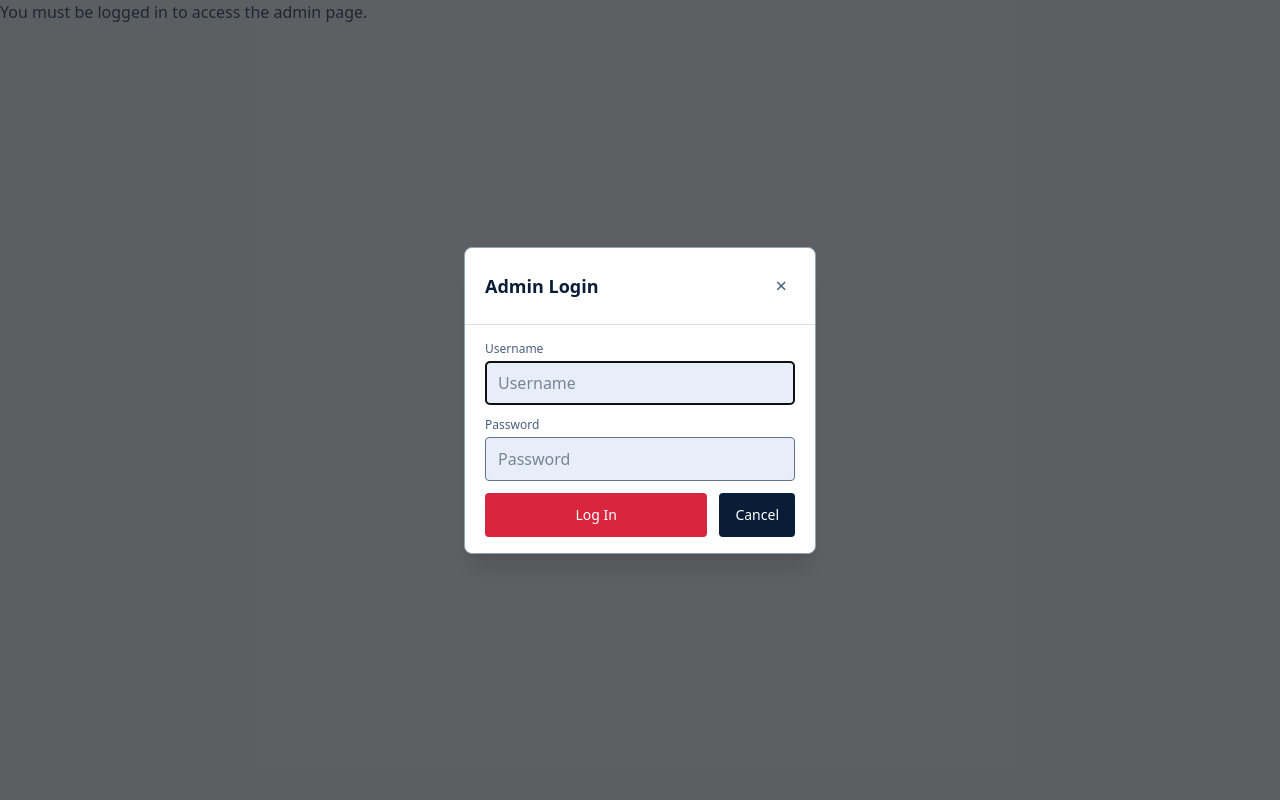
Scenario: AdminPage › surfaces an invalid-credentials error on 401
Step 1. Type "admin" into the field labelled "Username" → {"x": 640, "y": 382}, box x1=485 y1=360 x2=795 y2=404
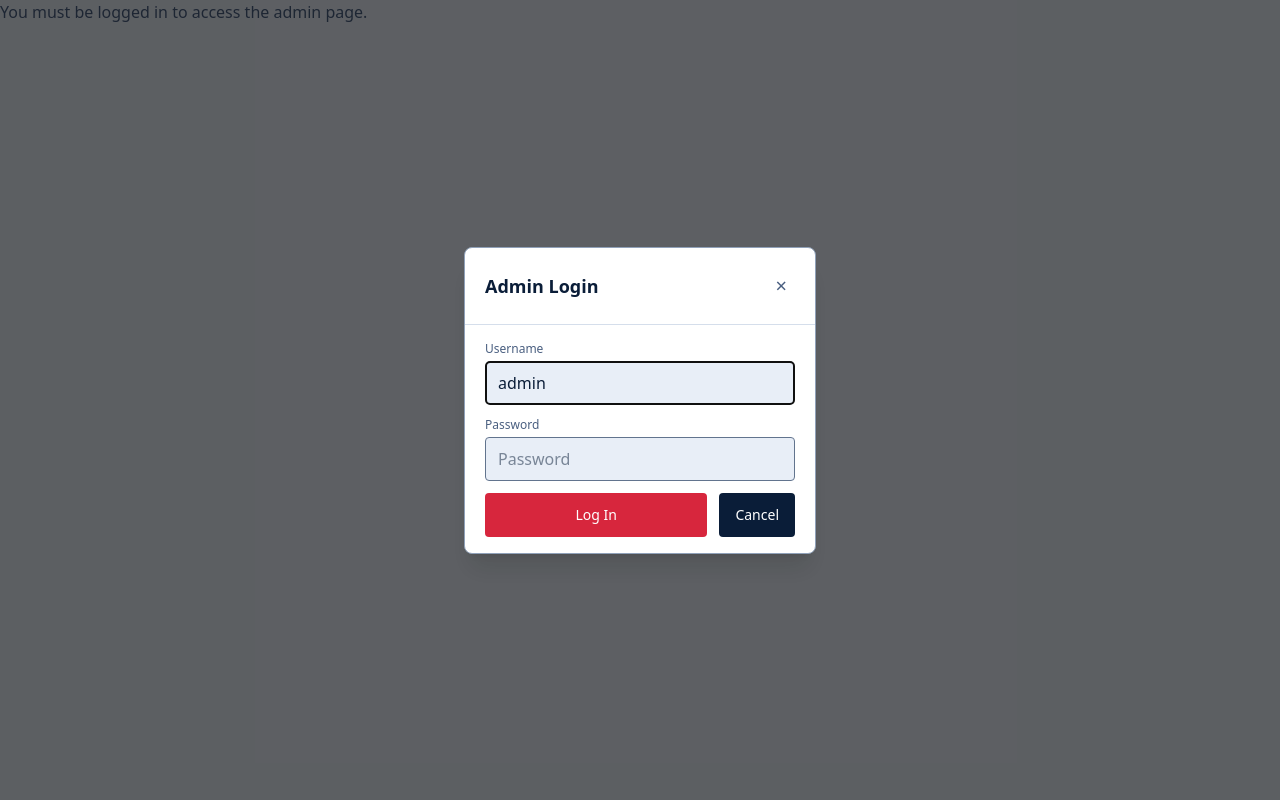
Step 2. Type "wrong" into the password field labelled "Password" → {"x": 640, "y": 458}, box x1=485 y1=436 x2=795 y2=480
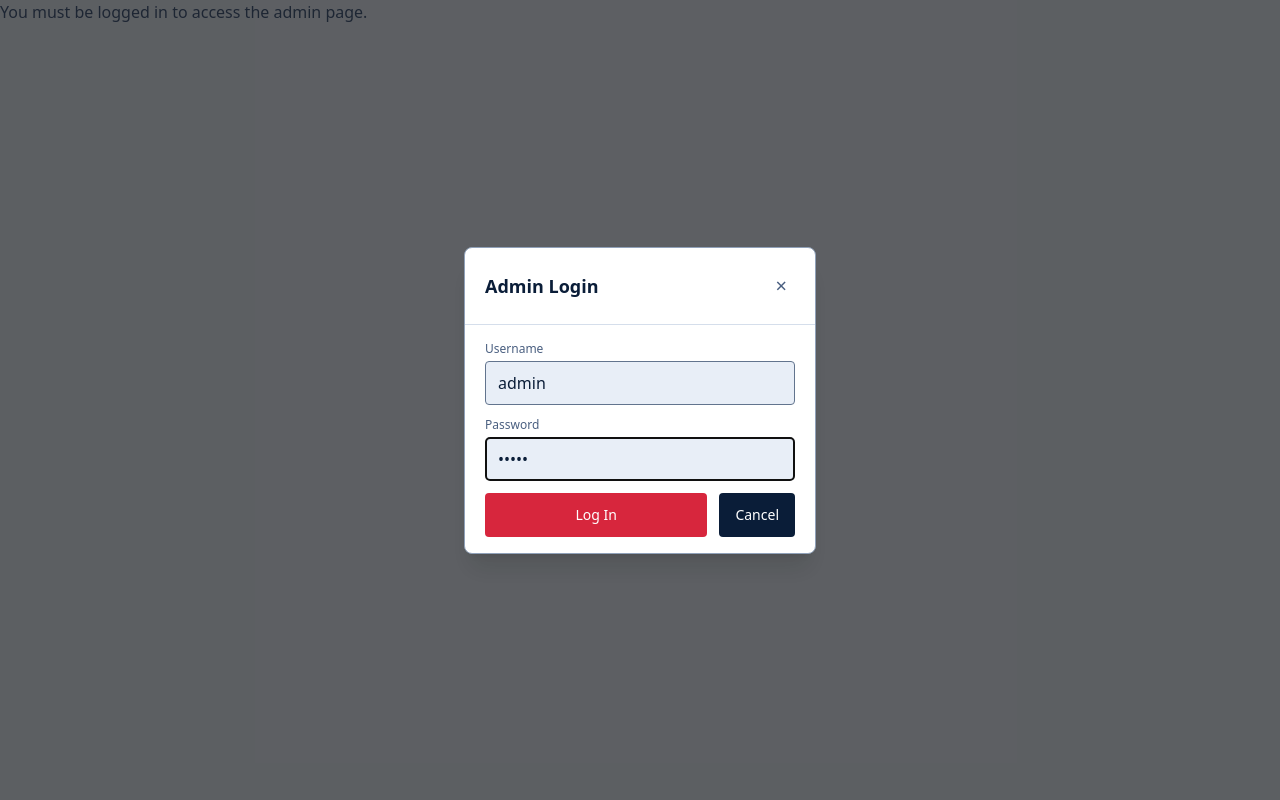
Step 3. Click the button "Log In" → {"x": 596, "y": 514}, box x1=485 y1=492 x2=707 y2=536
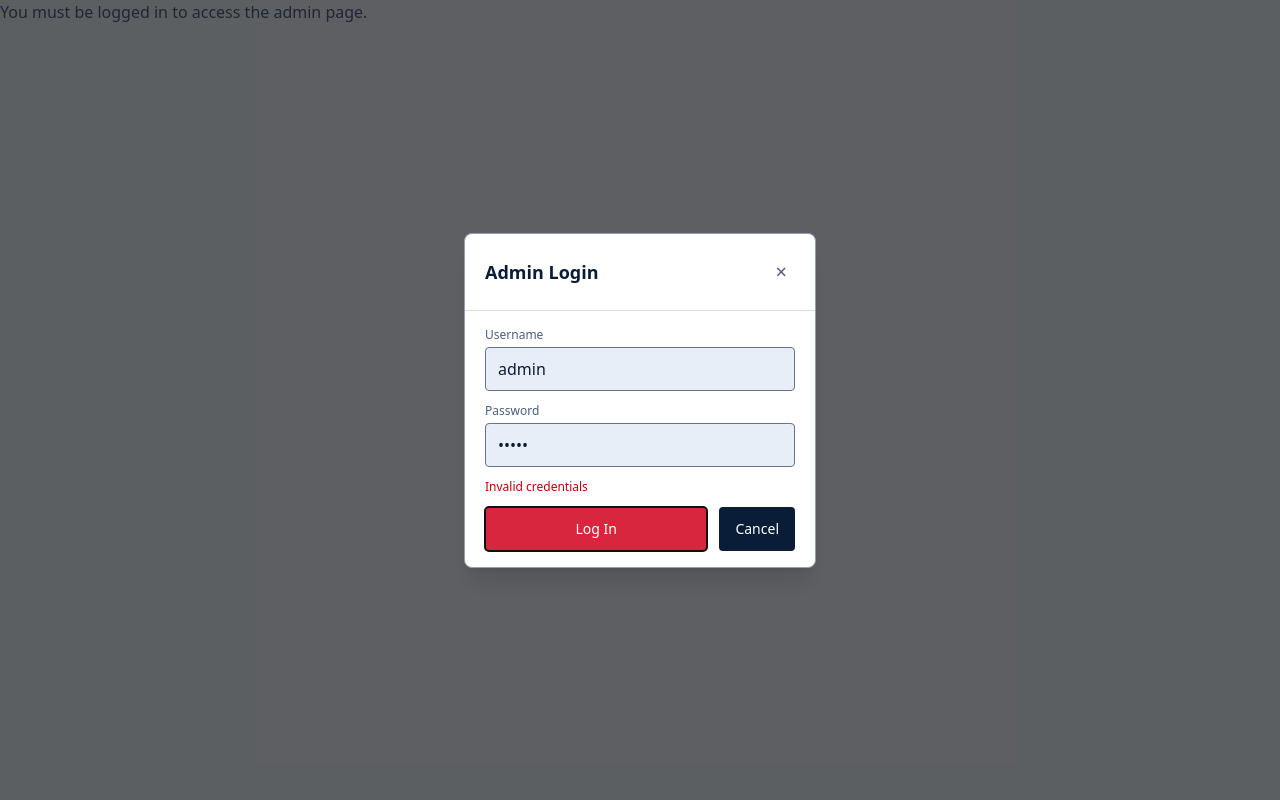
Now the message reads "Invalid credentials", box x1=485 y1=478 x2=588 y2=494
